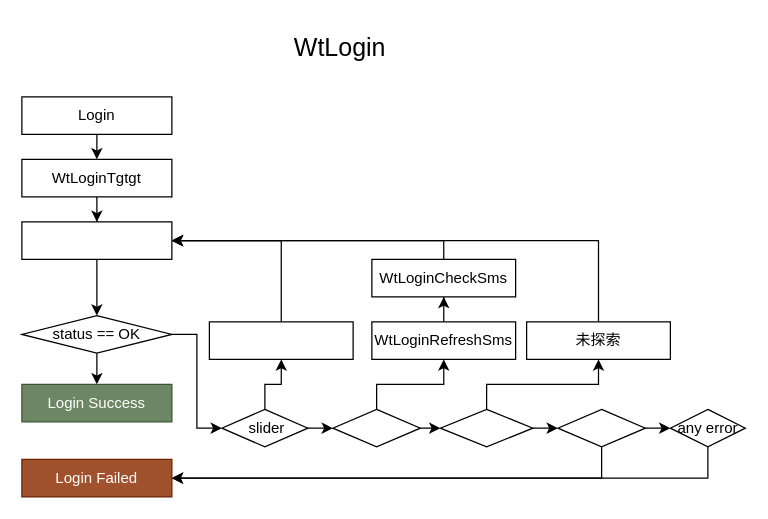
Image size: 768x519. Some labels were removed from this diagram. The shapes that lost their labels are listed below. From the top down, each one's box as (x1, y1, x2, y2) in pixels, then its label:
(21, 221, 172, 259): Get status
(208, 321, 353, 359): WtLoginCheckImage
(332, 408, 420, 447): sms
(439, 408, 533, 447): device lock
(557, 408, 645, 447): invalid pwd
